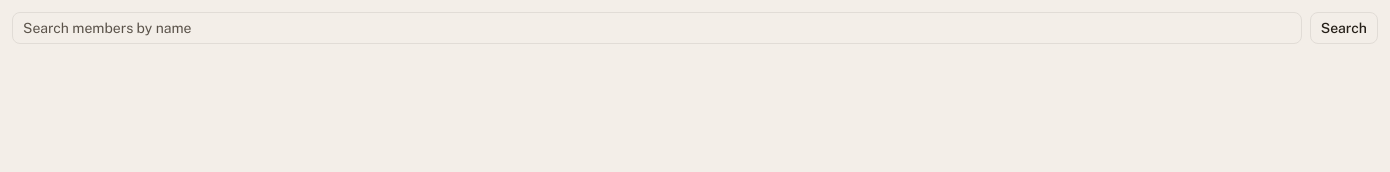
Scenario: SpousePicker › an older search finishing last does not replace the newer results
The image size is (1390, 172).
Later steps or results of the test are not shown.
In the field named "Search for the spouse": {"x": 657, "y": 28} [12,12,1302,44], type "al"
Then press Enter
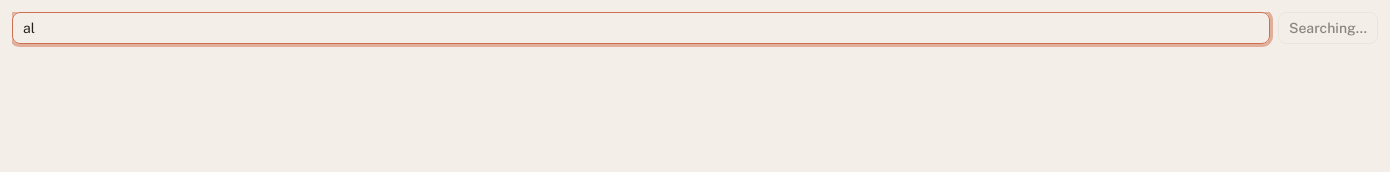
In the field named "Search for the spouse": {"x": 641, "y": 28} [12,12,1270,44], type "ex"
Then press Enter
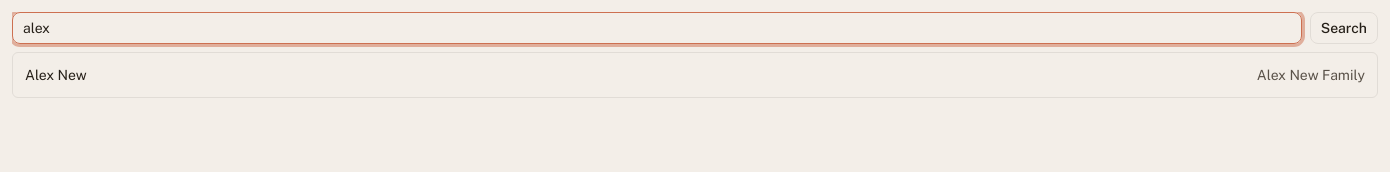
Now the button "Alex New Alex New Family" is shown, box [13,53,1377,97]
Now the button "Search" is enabled, box [1310,12,1378,44]
